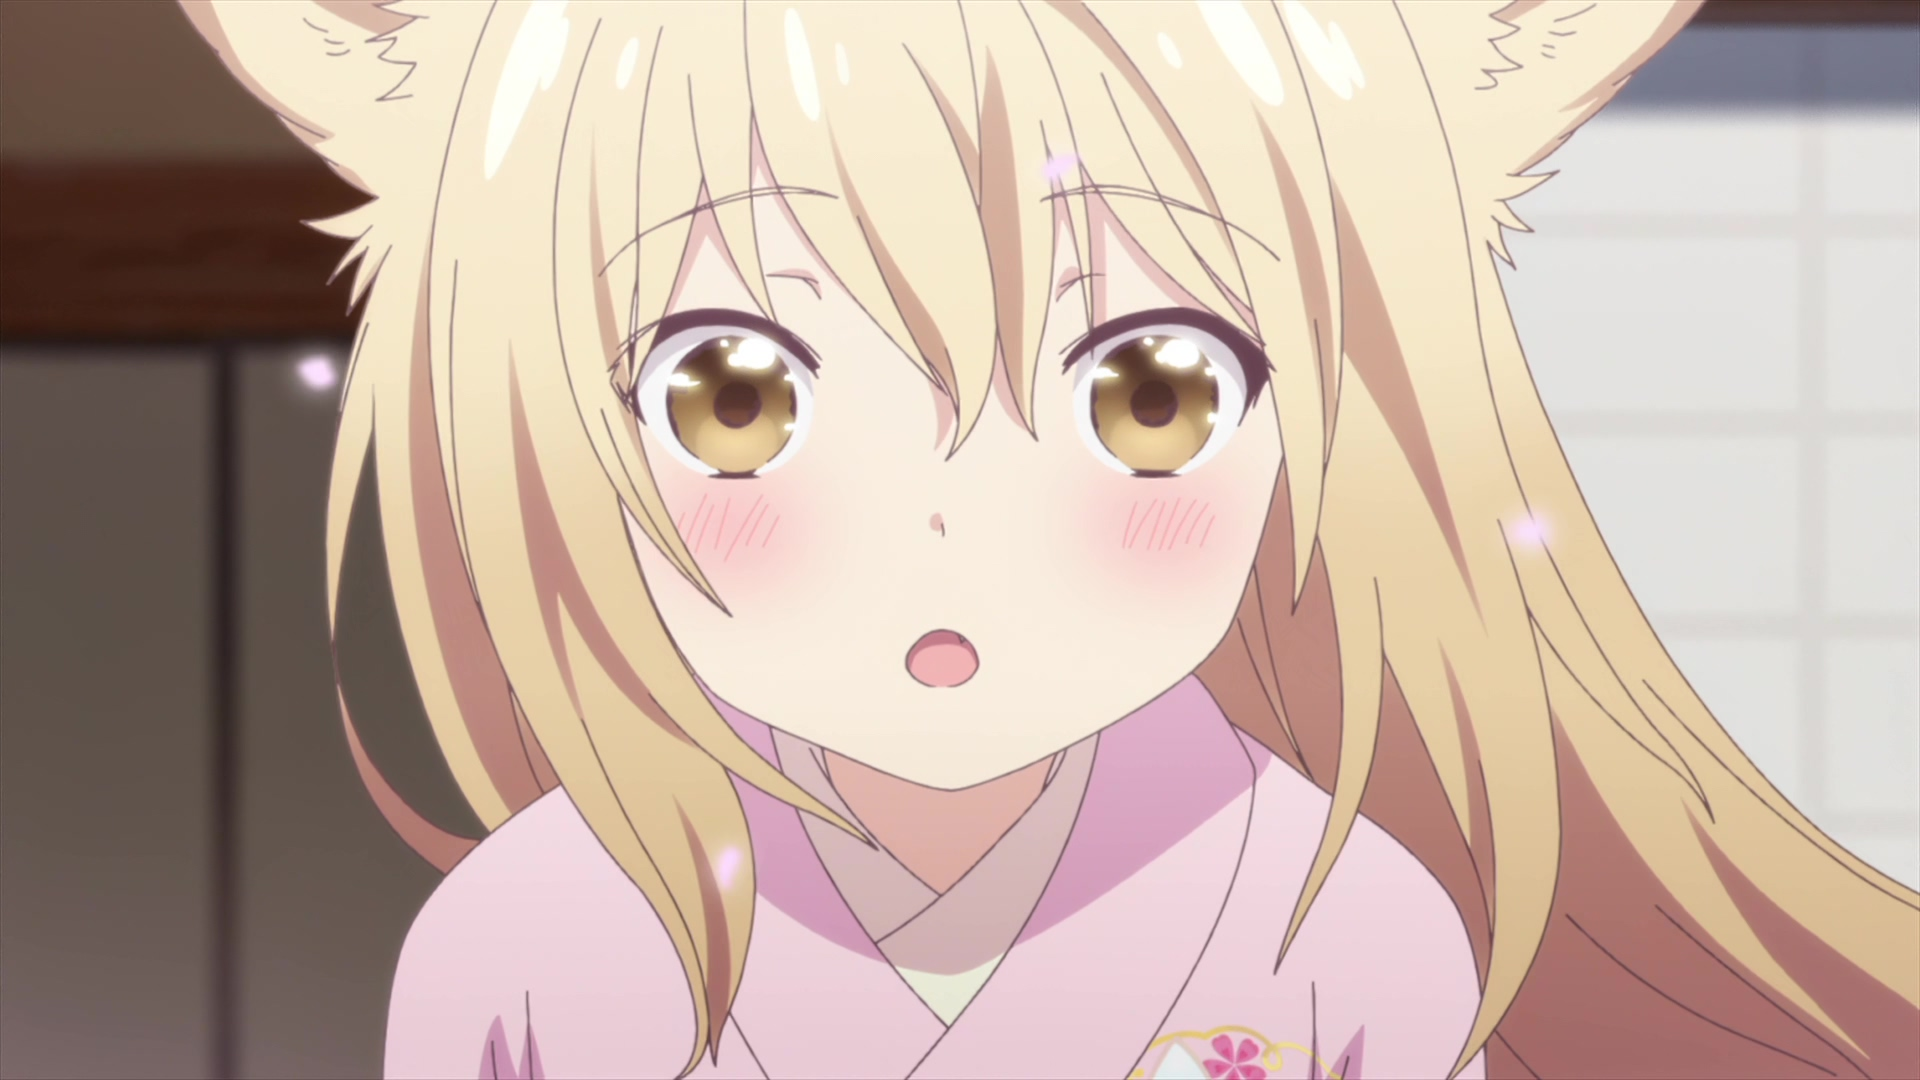柚: (177, 1, 1920, 1080)
